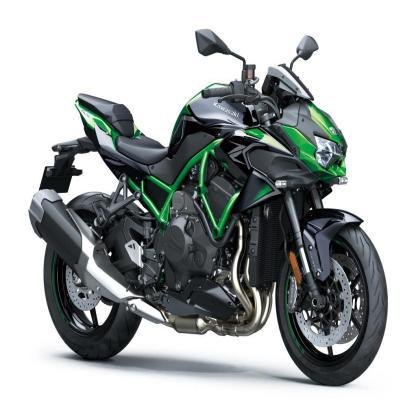Motorcycle: (25, 18, 390, 391)
